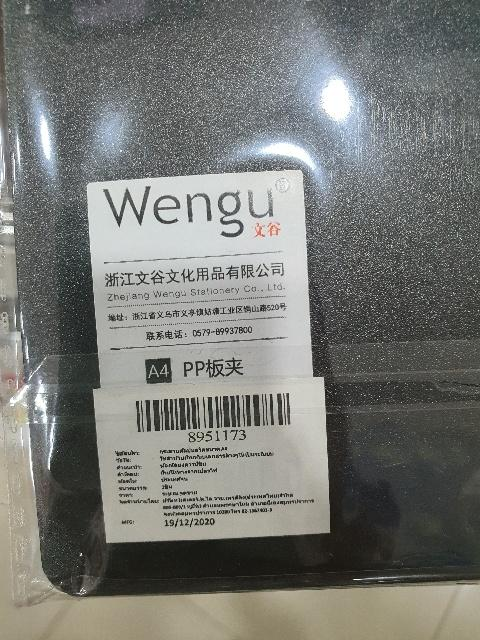Barcode: (124, 384, 301, 443)
